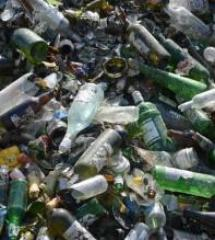glass: (61, 80, 105, 154)
